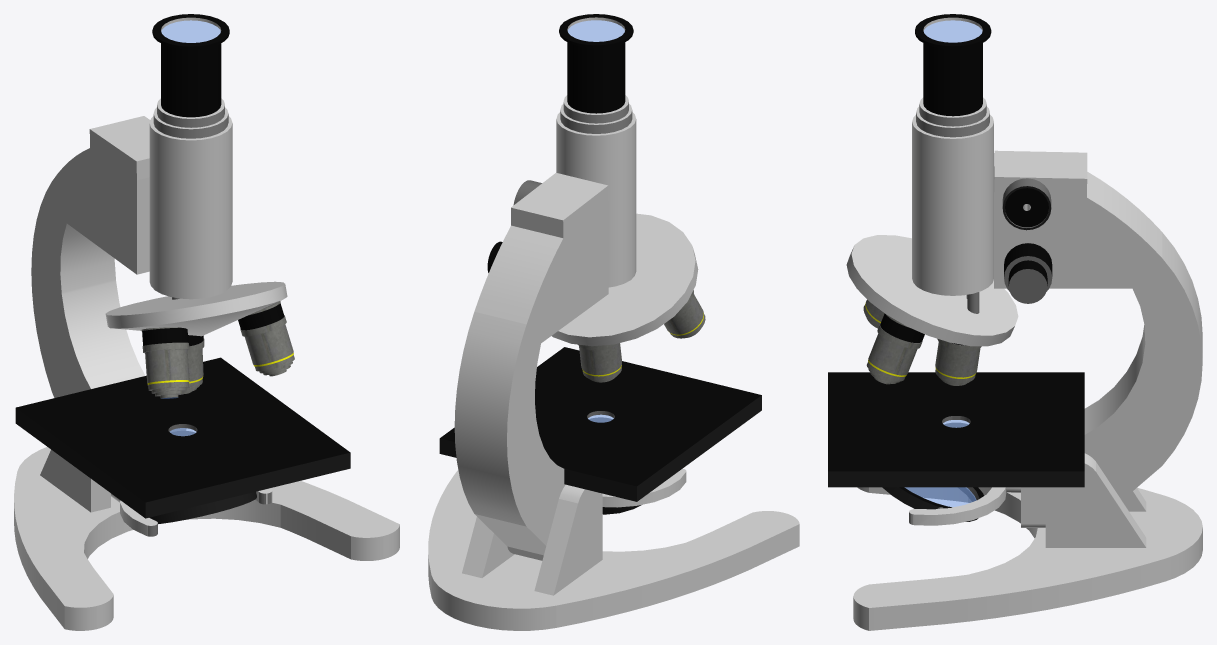
3 renders of one model, left to right at view 1: azimuth 30°, elevation 25°; view 2: azimuth 150°, elevation 25°; view 3: azimuth 270°, elevation 25°, orthographic. The views are drawn at different scales.
Parts seen in each view (by area): view 1: object 4, object 5, object 2, object 7, object 6, object 8, object 10, object 9, object 3, object 16, object 15, object 11; view 2: object 2, object 4, object 7, object 5, object 6, object 8, object 3, object 11, object 10, object 15; view 3: object 4, object 2, object 7, object 5, object 6, object 8, object 3, object 12, object 9, object 13, object 15, object 16 (+1 smaller).
Part boxes in pixels (bbox=[...]): object 4: bbox=[15, 357, 350, 518]; object 5: bbox=[149, 14, 232, 299]; object 2: bbox=[14, 447, 399, 630]; object 7: bbox=[31, 182, 177, 502]; object 6: bbox=[52, 116, 150, 243]; object 8: bbox=[105, 281, 287, 336]; object 10: bbox=[141, 327, 189, 398]; object 9: bbox=[238, 301, 294, 376]; object 3: bbox=[40, 428, 186, 512]; object 16: bbox=[149, 491, 256, 523]; object 15: bbox=[120, 488, 272, 536]; object 11: bbox=[183, 335, 204, 393]; object 2: bbox=[428, 470, 799, 630]; object 4: bbox=[439, 347, 761, 501]; object 7: bbox=[454, 264, 608, 560]; object 5: bbox=[556, 14, 636, 287]; object 6: bbox=[474, 173, 608, 324]; object 8: bbox=[552, 213, 698, 346]; object 3: bbox=[462, 484, 602, 595]; object 11: bbox=[578, 343, 621, 382]; object 10: bbox=[664, 290, 705, 338]; object 15: bbox=[602, 468, 686, 507]; object 4: bbox=[828, 372, 1084, 487]; object 2: bbox=[853, 487, 1202, 630]; object 7: bbox=[994, 232, 1202, 527]; object 5: bbox=[912, 14, 993, 295]; object 6: bbox=[994, 150, 1162, 258]; object 8: bbox=[846, 235, 1018, 346]; object 3: bbox=[1045, 453, 1146, 547]; object 12: bbox=[967, 243, 1052, 313]; object 9: bbox=[866, 313, 924, 384]; object 13: bbox=[1002, 178, 1051, 230]; object 15: bbox=[909, 487, 1006, 525]; object 16: bbox=[882, 487, 983, 521].
Size of the model in its own units: 3.29 by 4.94 by 3.22.
12 materials, 2 textured.
